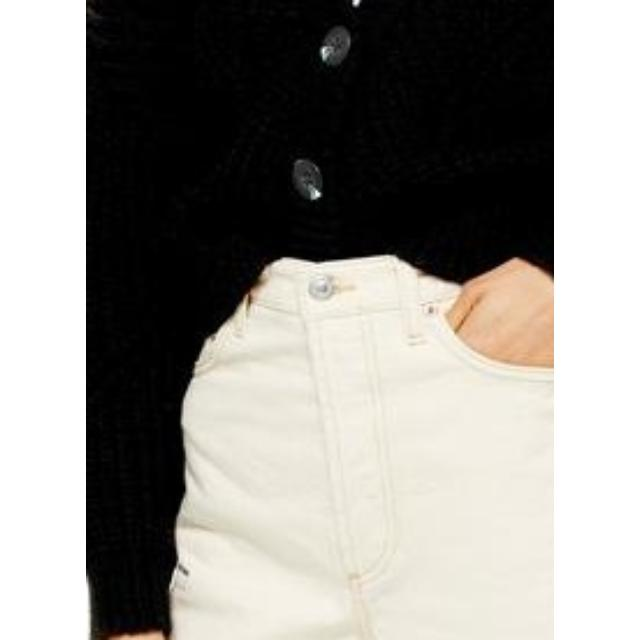polyester: (88, 0, 554, 268)
